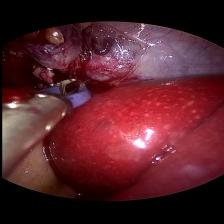Bipolar: (23, 75, 100, 122)
